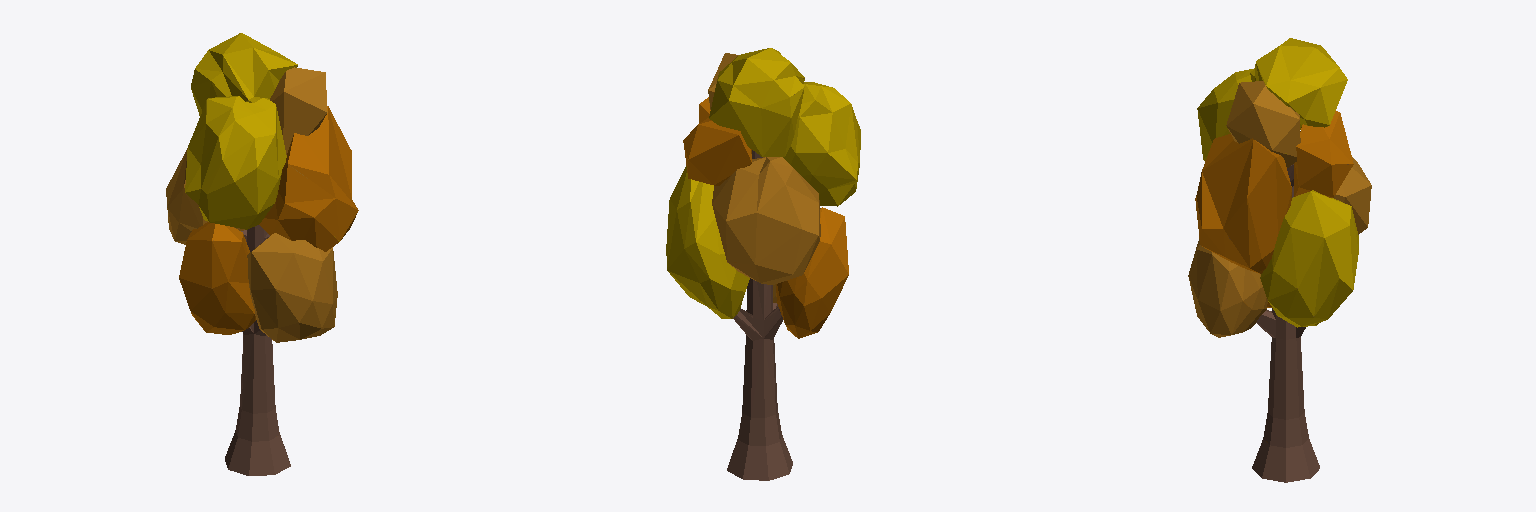
3 views of the same model, side by side, from view 1: azimuth 30°, elevation 25°; view 2: azimuth 150°, elevation 25°; view 3: azimuth 270°, elevation 25° (orthographic).
Parts seen in each view (by area): view 1: Tall_deciduous_tree_yellow_leaves; view 2: Tall_deciduous_tree_yellow_leaves; view 3: Tall_deciduous_tree_yellow_leaves.
Part boxes in pixels (bbox=[...]): Tall_deciduous_tree_yellow_leaves: bbox=[166, 33, 358, 475]; Tall_deciduous_tree_yellow_leaves: bbox=[666, 48, 860, 480]; Tall_deciduous_tree_yellow_leaves: bbox=[1188, 38, 1371, 482].
Size of the model in its own units: 1.11 by 2.79 by 1.11.
1 materials, 1 textured.